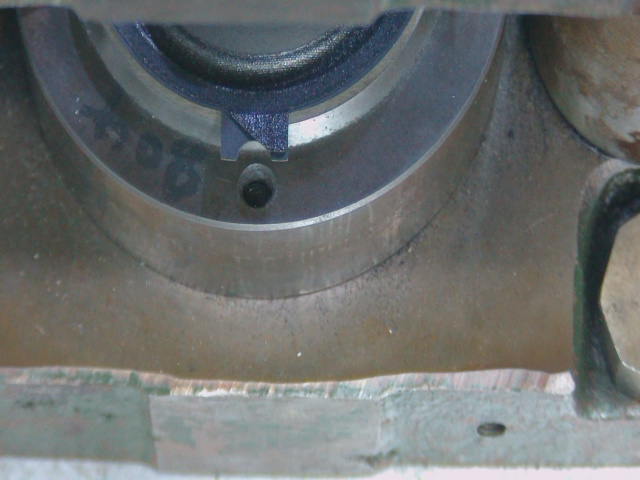OK: (216, 104, 300, 170)
